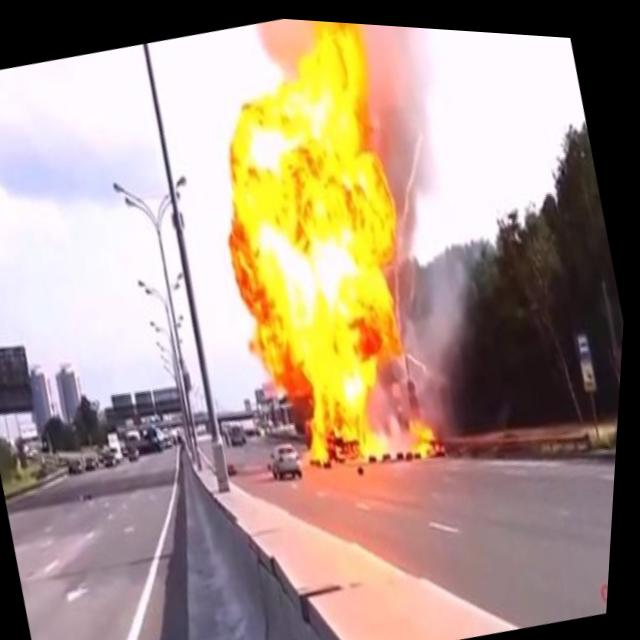fire: (169, 10, 493, 494)
